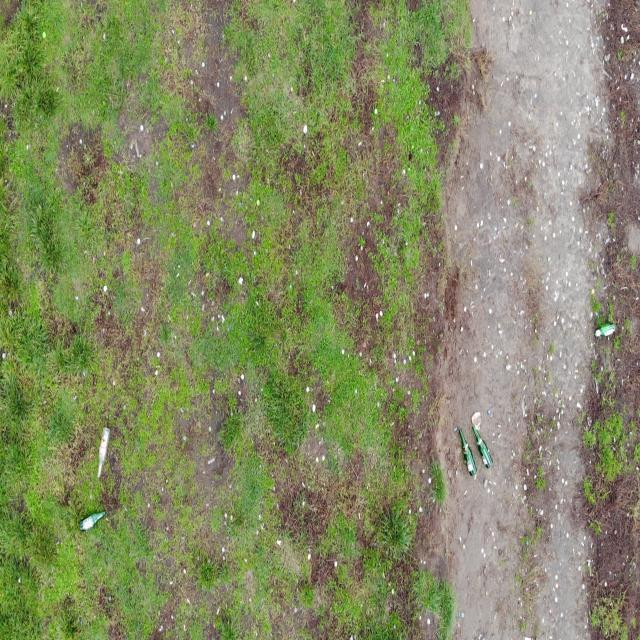rubbish: (472, 425, 494, 469), (459, 431, 479, 476), (97, 424, 111, 477), (78, 510, 106, 533), (595, 321, 617, 337)
